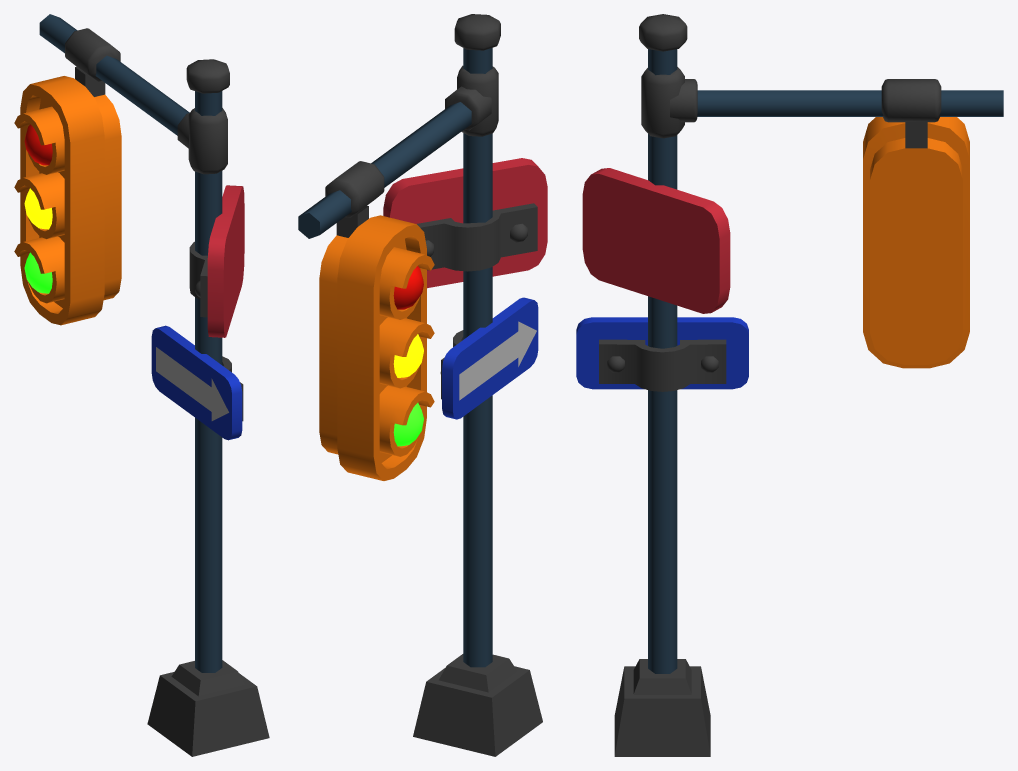
The model's file is TrafficLight 1.fbx.
3 views of the same model, side by side, from view 1: azimuth 30°, elevation 25°; view 2: azimuth 150°, elevation 25°; view 3: azimuth 270°, elevation 25° (orthographic). The views are drawn at different scales.
Parts seen in each view (by area): view 1: Traffic Light_L; view 2: Traffic Light_L; view 3: Traffic Light_L.
Boxes of the visible parts, x1,y1,x2,y2 form: Traffic Light_L: (14,14,269,756); Traffic Light_L: (298,14,547,756); Traffic Light_L: (576,14,1003,756).
Bounding box in the file's own units: 134 × 367 × 678.
